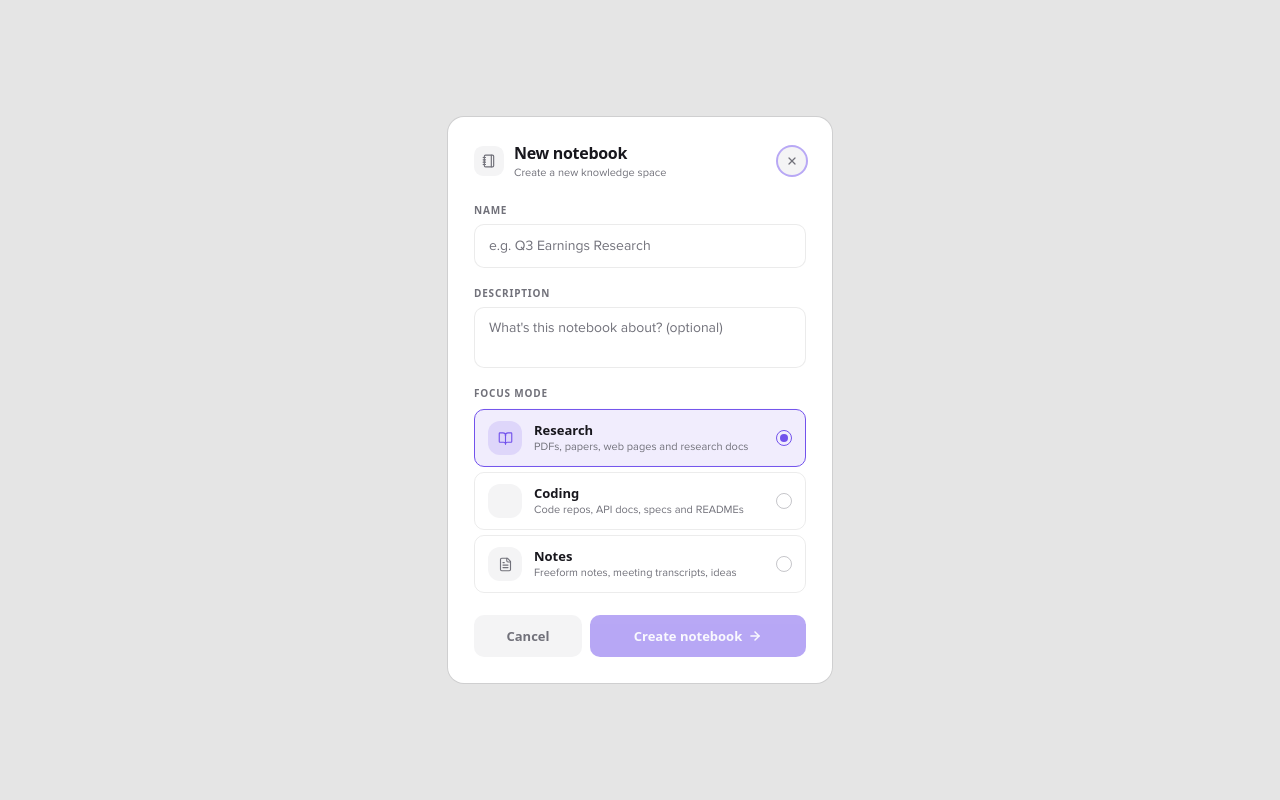
Test: NotebookCreateDialog — Create button state › Create is enabled when name has non-whitespace content
This screenshot has width=1280, height=800.
In the field labelled "Name": [640, 246] box [474,224,806,268], type "My Notebook"
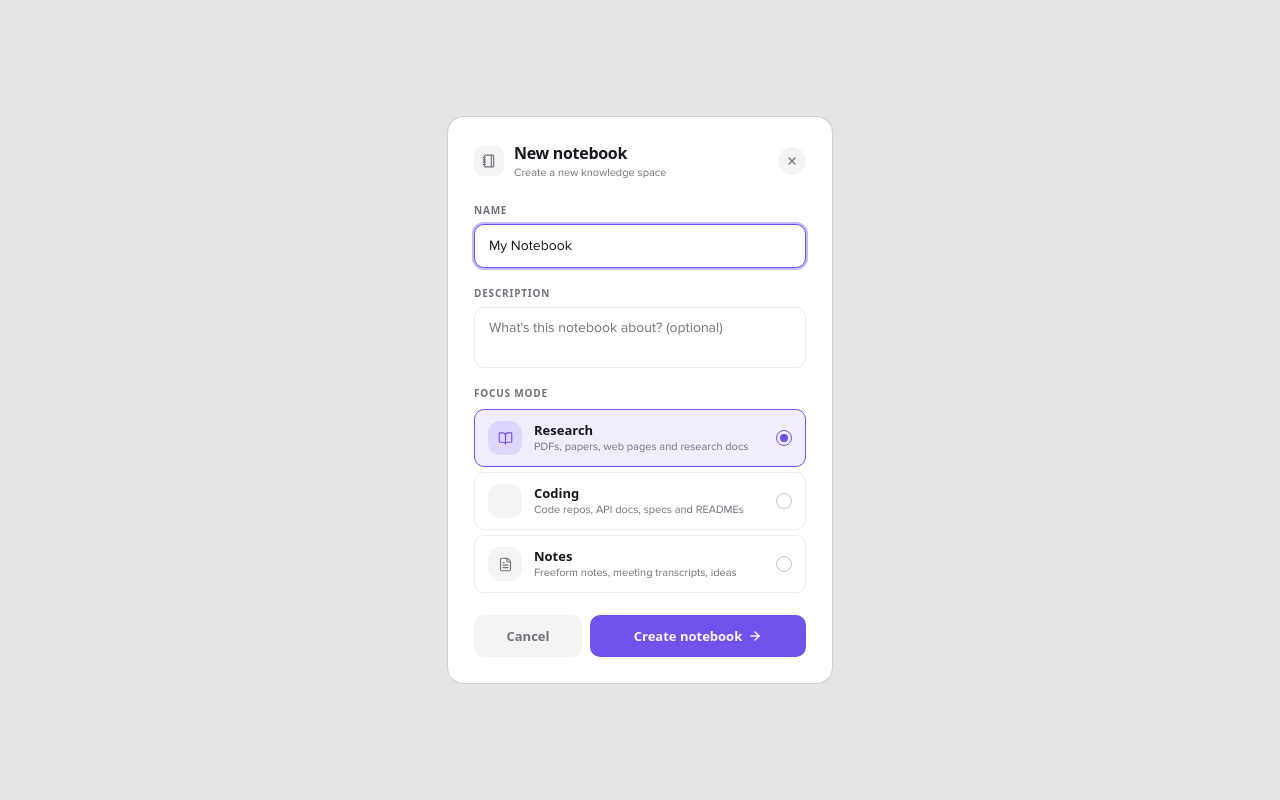
expect the button "Create notebook" is enabled: met, box [590,615,806,657]
